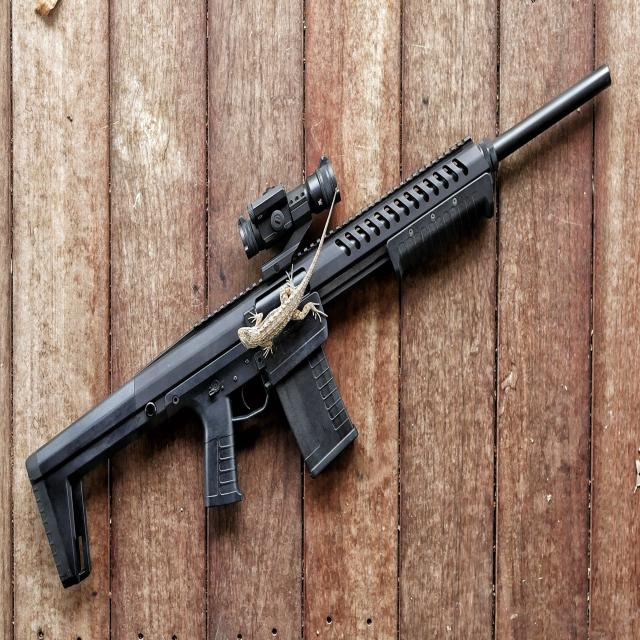Rifle: (24, 67, 614, 590)
